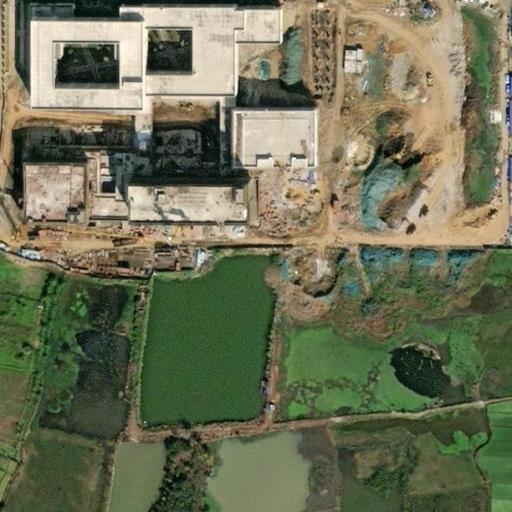building: (108, 2, 267, 95), (22, 18, 138, 112), (133, 181, 256, 218), (241, 116, 322, 172), (32, 169, 93, 229)
